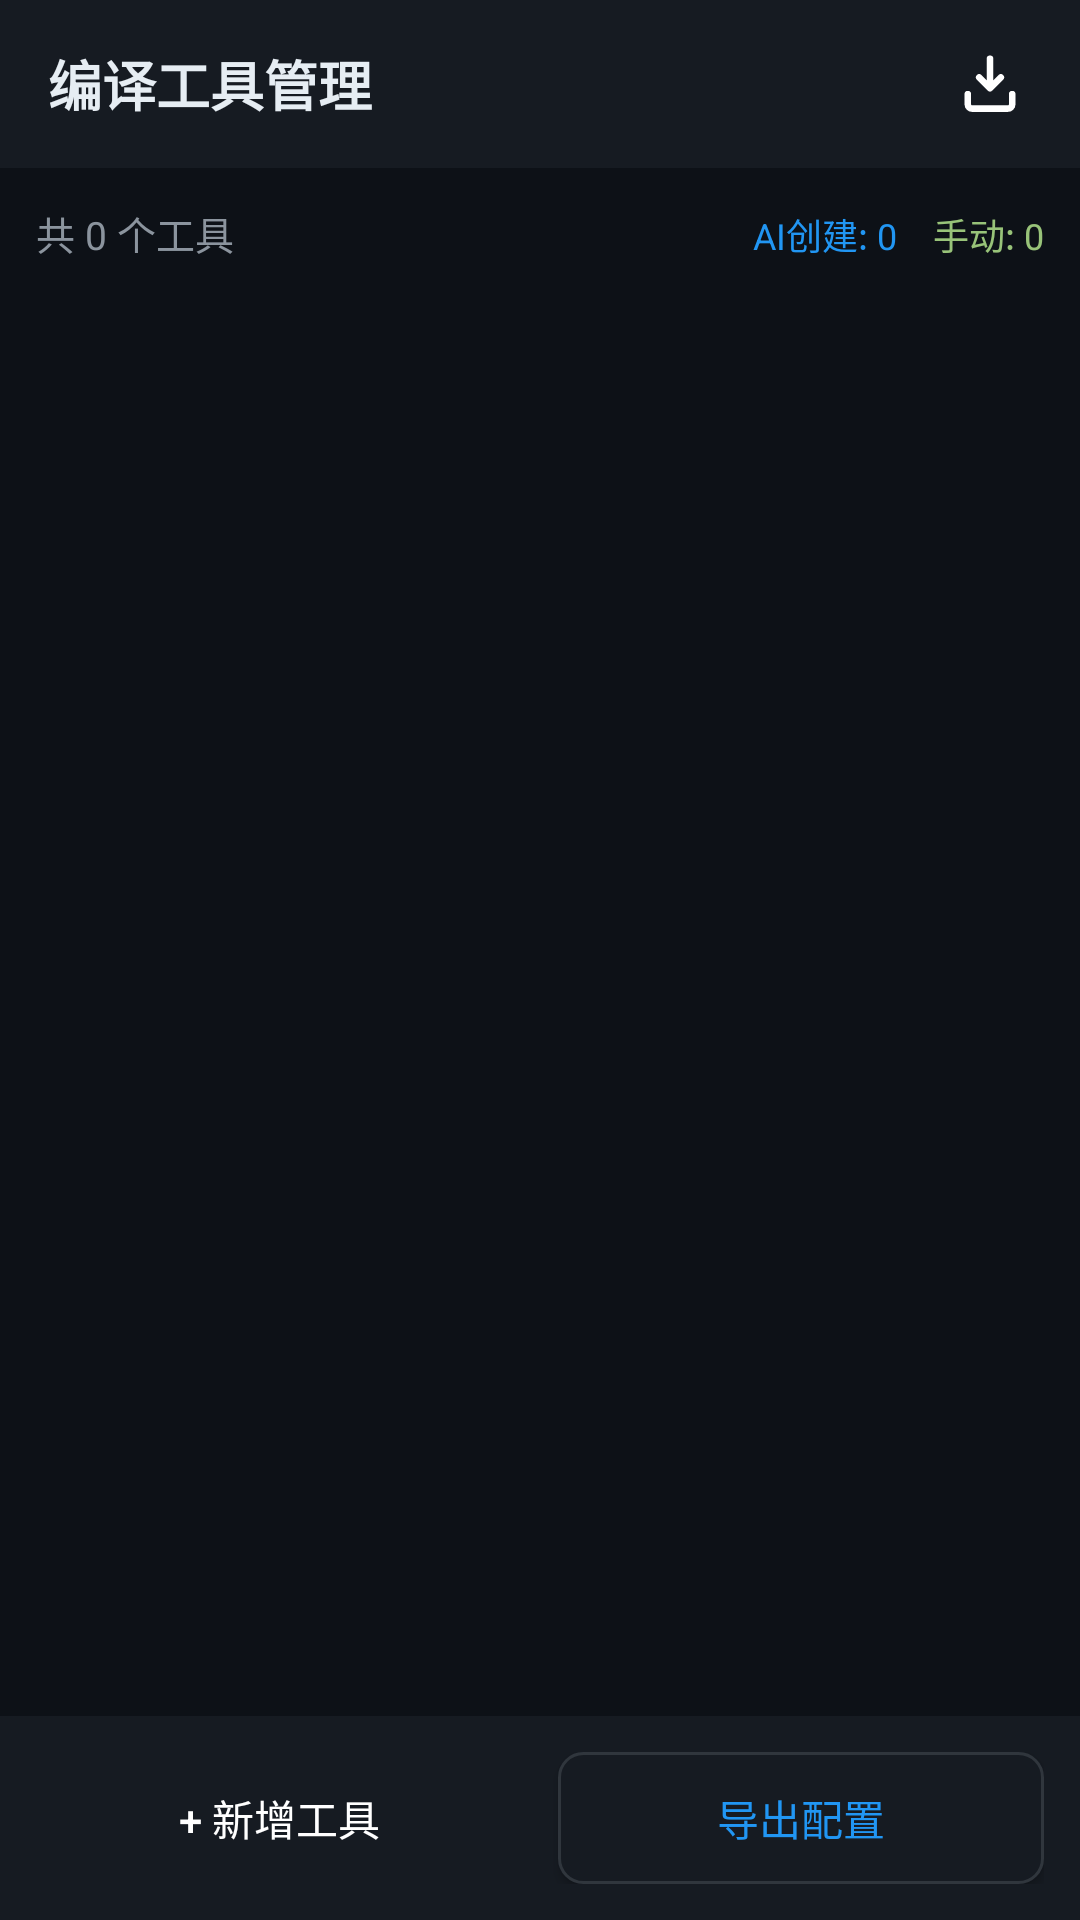

Named icons in this screenshot (1080px×1920px) and their centers, point (x, y):
导入配置: point (990, 83)
